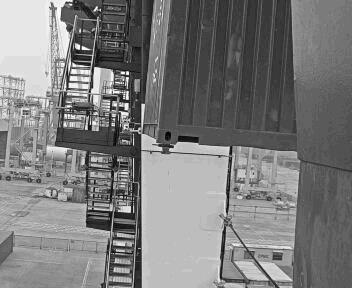twist_lock_1: (227, 168, 266, 203)
